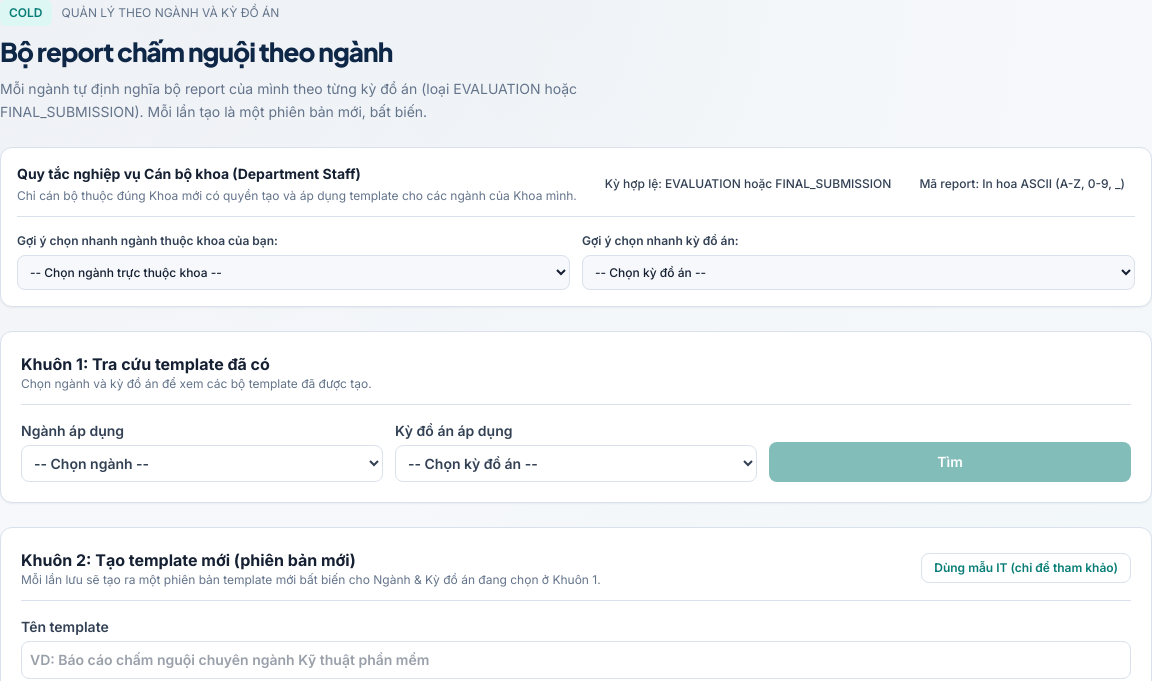
Test: ColdTemplateManagementPage › surfaces a department-scope message on 403
The image size is (1152, 681).
Select "Marketing (MKT)" in the dropdown labelled "Ngành áp dụng" at [202, 464], box [21, 445, 383, 482]
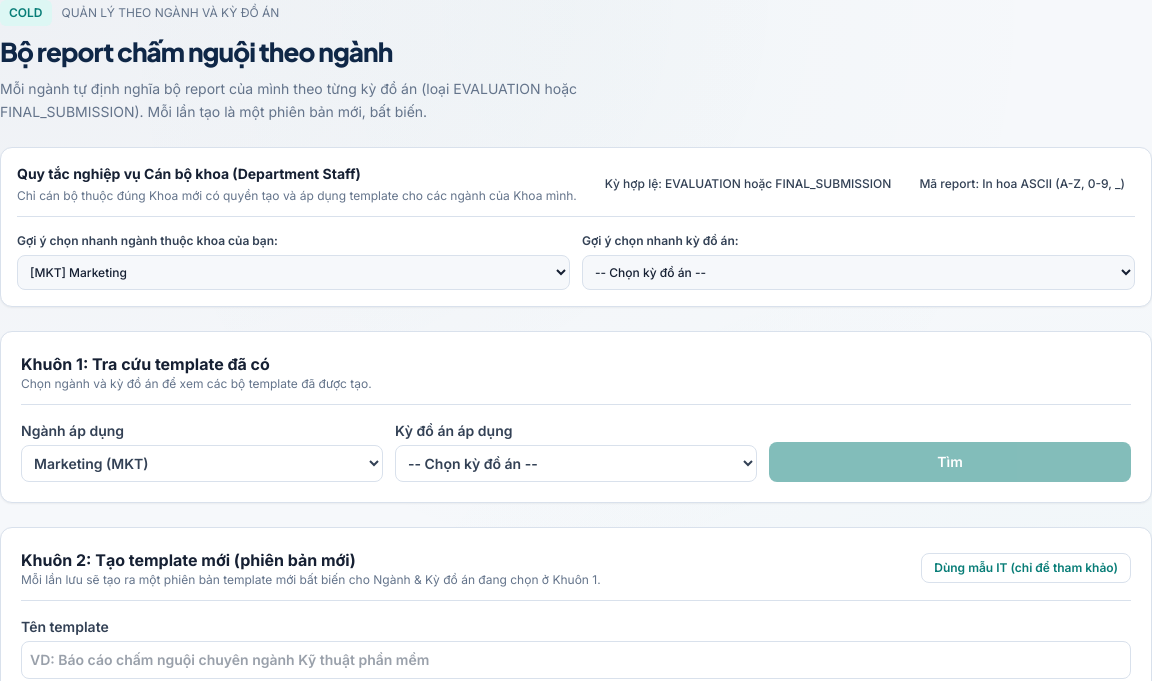
Select "Đánh giá cuối kỳ (EVAL)" in the dropdown labelled "Kỳ đồ án áp dụng" at [576, 464], box [395, 445, 757, 482]
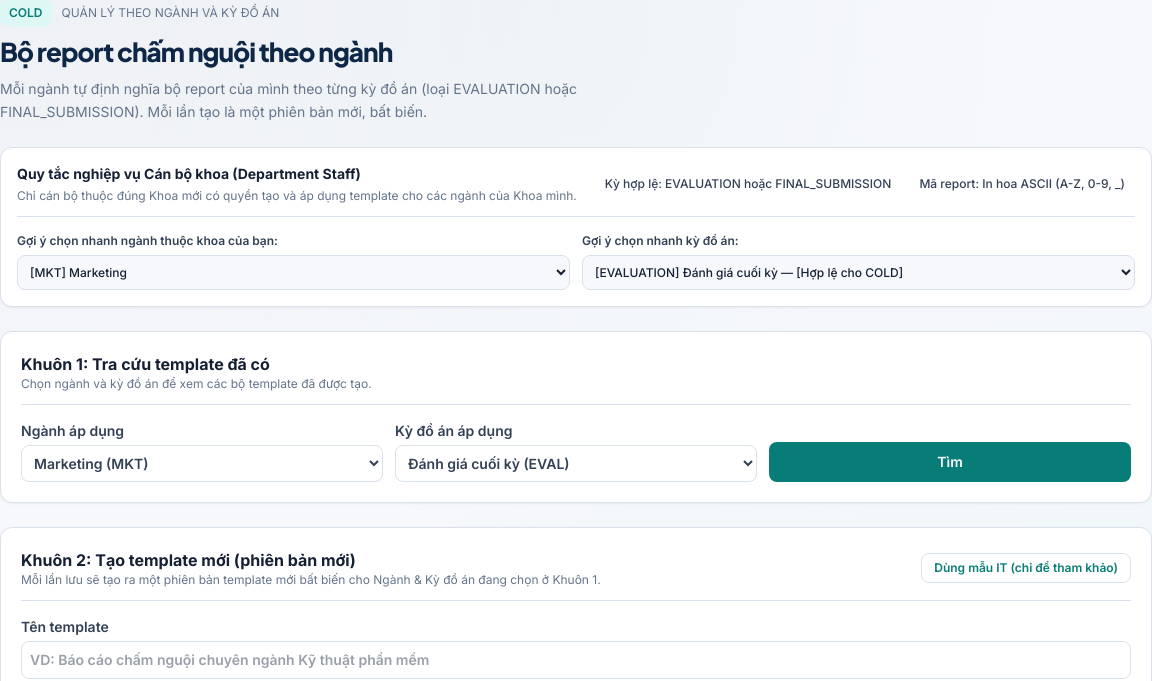
Click the button "Tìm".
click(950, 462)  # box [769, 442, 1131, 482]
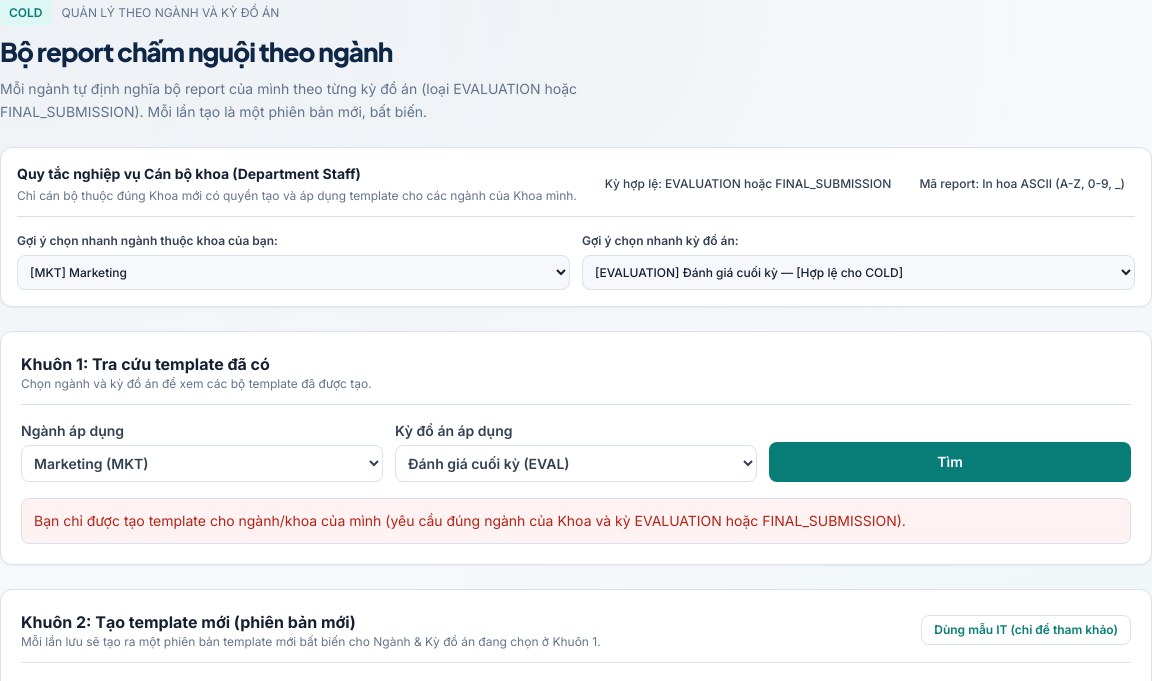
Check: the message shows "chỉ được tạo template", box [34, 512, 906, 529]
